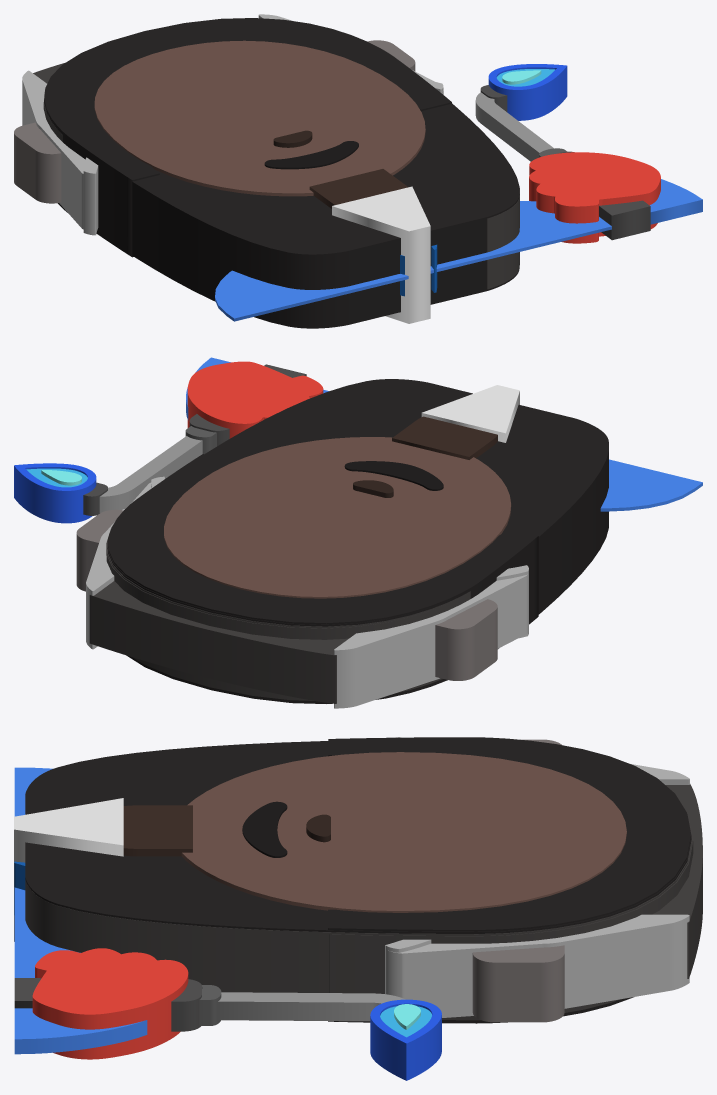
Rendered from emoji_u1f469_1f3ff_200d_1f3ed.glb.
The picture shows the model from 3 angles, top to bottom: view 1: azimuth 30°, elevation 25°; view 2: azimuth 150°, elevation 25°; view 3: azimuth 270°, elevation 25°; orthographic projection. The views are drawn at different scales.
Parts seen in each view (by area): view 1: emoji_u1f469_1f3ff_200d_1f3ed; view 2: emoji_u1f469_1f3ff_200d_1f3ed; view 3: emoji_u1f469_1f3ff_200d_1f3ed.
Part boxes in pixels (x1,y1,x2,y2): emoji_u1f469_1f3ff_200d_1f3ed: (14, 14, 702, 328); emoji_u1f469_1f3ff_200d_1f3ed: (14, 357, 702, 708); emoji_u1f469_1f3ff_200d_1f3ed: (14, 737, 702, 1080).
Bounding box in the file's own units: 0.0336 × 0.006 × 0.0334.
